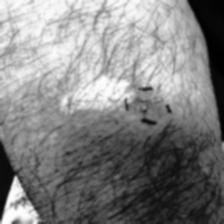Potentially Malignant Skin Tumors: (127, 92, 166, 118)
